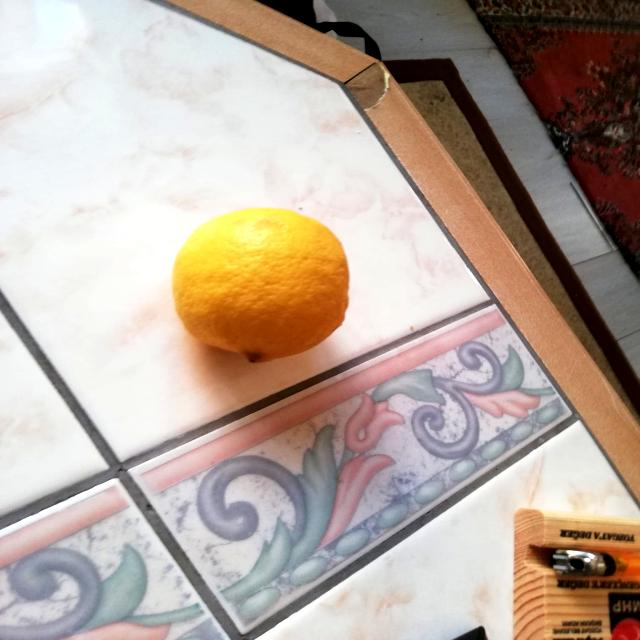lemon: (160, 197, 361, 371)
